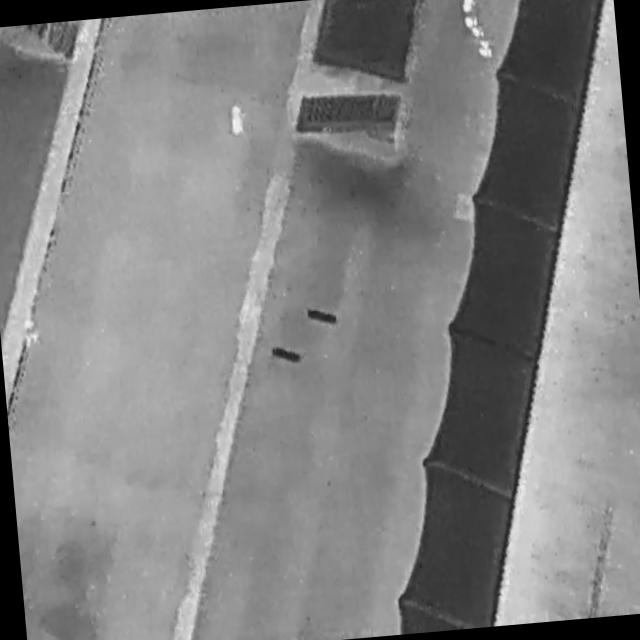person: (229, 101, 248, 138), (23, 315, 43, 349)
